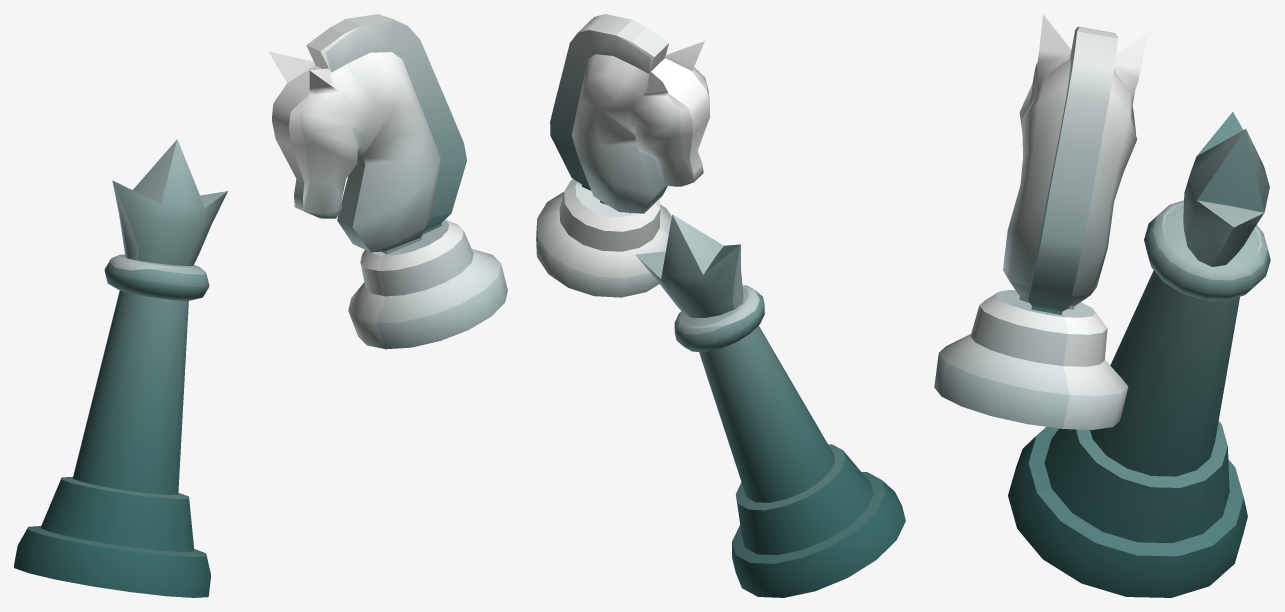
File: Integrity_Chees.fbx
3 renders of one model, left to right at view 1: azimuth 30°, elevation 25°; view 2: azimuth 150°, elevation 25°; view 3: azimuth 270°, elevation 25°, orthographic. The views are drawn at different scales.
Parts seen in each view (by area): view 1: Integrity_Chees; view 2: Integrity_Chees; view 3: Integrity_Chees.
Part boxes in pixels (box(x1,y1,x2,y2)): Integrity_Chees: box(14, 14, 507, 597); Integrity_Chees: box(536, 14, 905, 597); Integrity_Chees: box(934, 14, 1270, 597).
Bounding box in the file's own units: 11.27 × 13.7 × 6.34.
